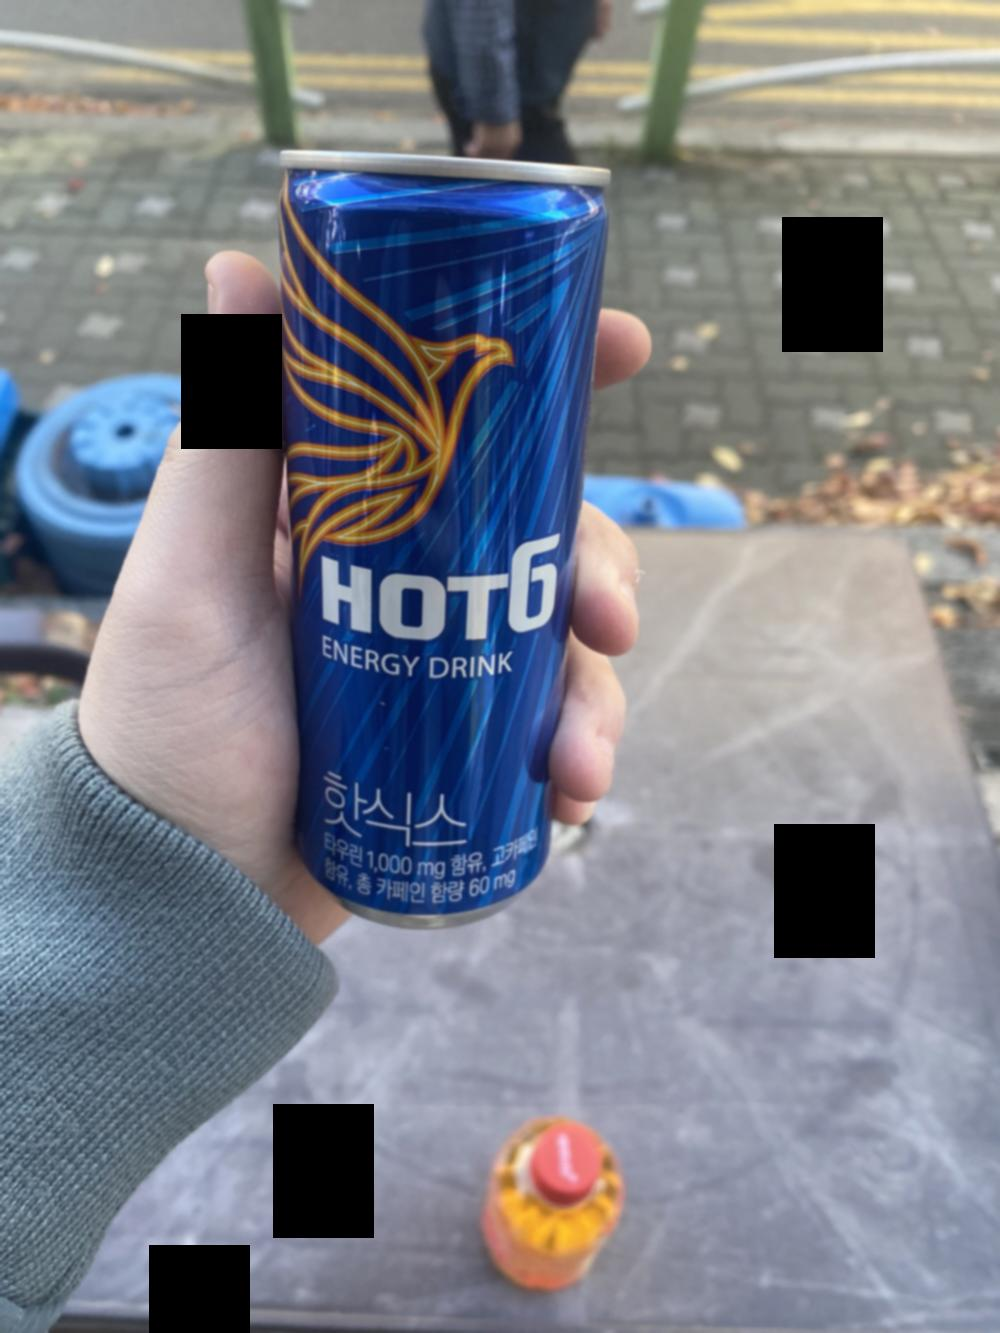hotsix_org: (278, 141, 606, 918)
